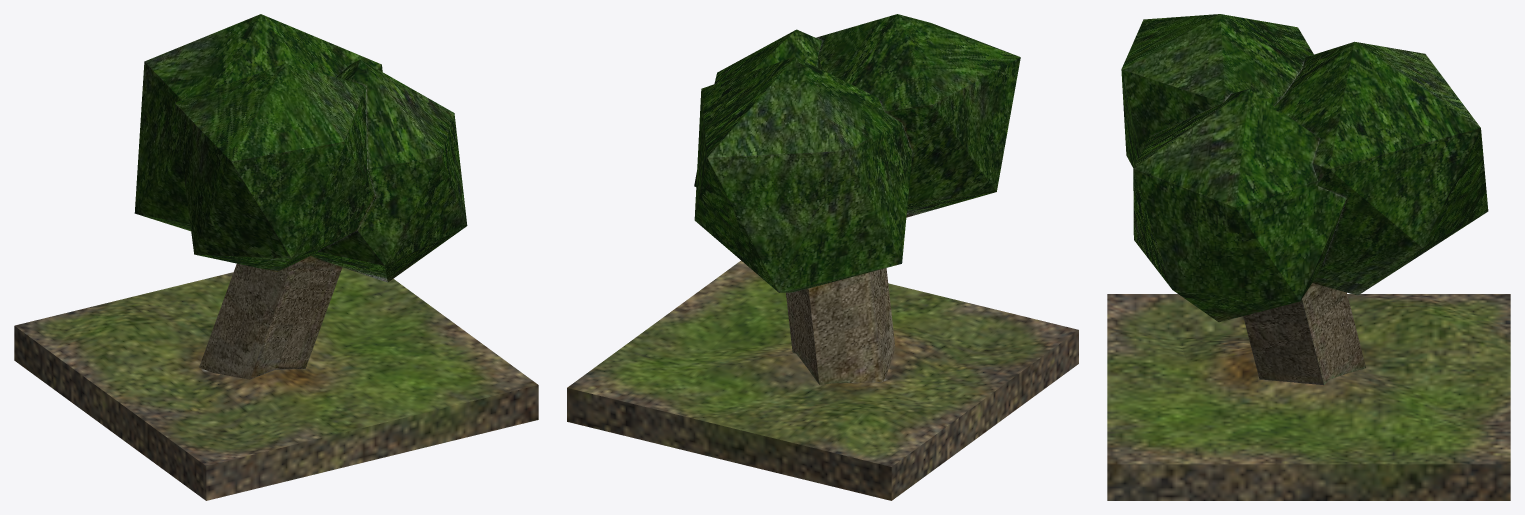
The model's file is leaftree.glb.
3 renders of one model, left to right at view 1: azimuth 30°, elevation 25°; view 2: azimuth 150°, elevation 25°; view 3: azimuth 270°, elevation 25°, orthographic. The views are drawn at different scales.
Parts seen in each view (by area): view 1: Cube; view 2: Cube; view 3: Cube.
Boxes of the visible parts, bbox=[...] form: Cube: bbox=[14, 14, 538, 500]; Cube: bbox=[567, 14, 1078, 500]; Cube: bbox=[1107, 14, 1510, 500].
Bounding box in the file's own units: 2 × 2.1 × 2.
2 materials, 2 textured.
